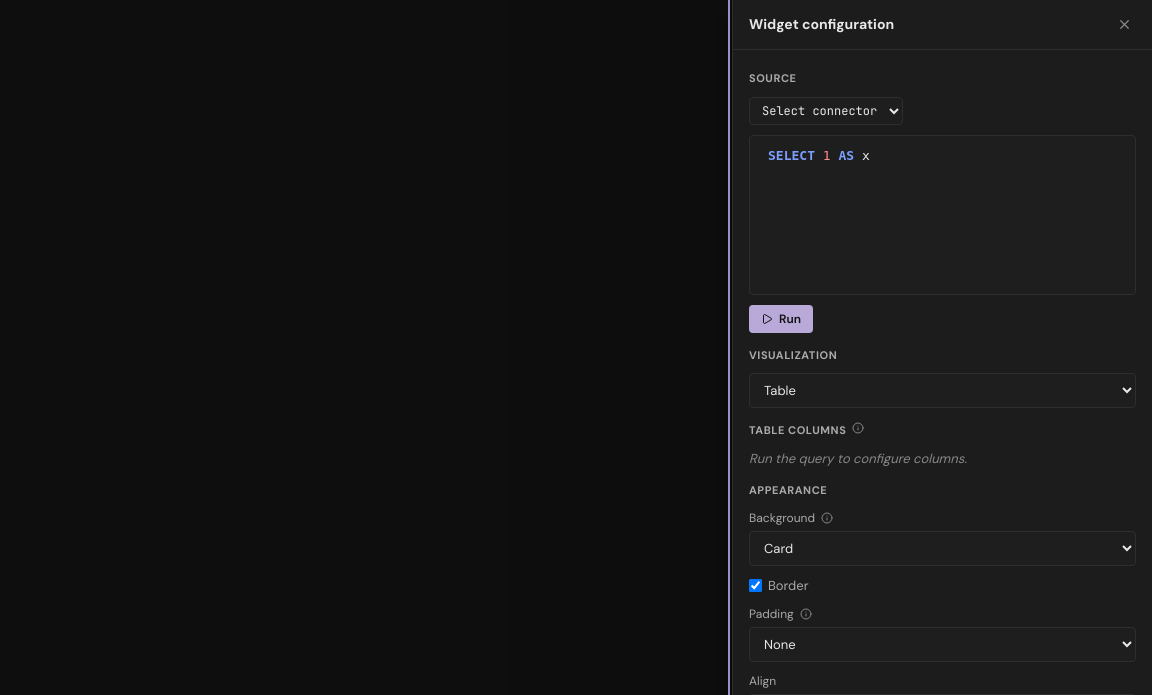
Test: WidgetConfigDrawer › shows a Run error from the execute endpoint
Click the button "Run".
click(781, 318)  # box [749, 304, 813, 332]
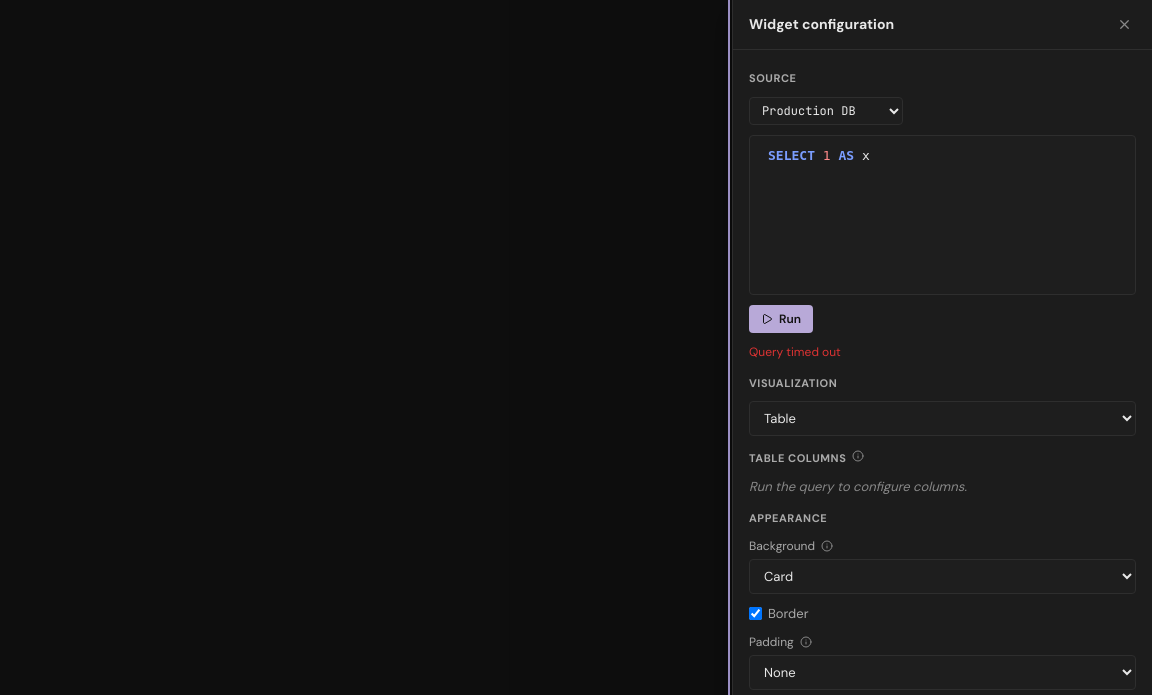
Result: the message reads "Query timed out" at [749, 344, 841, 360]
